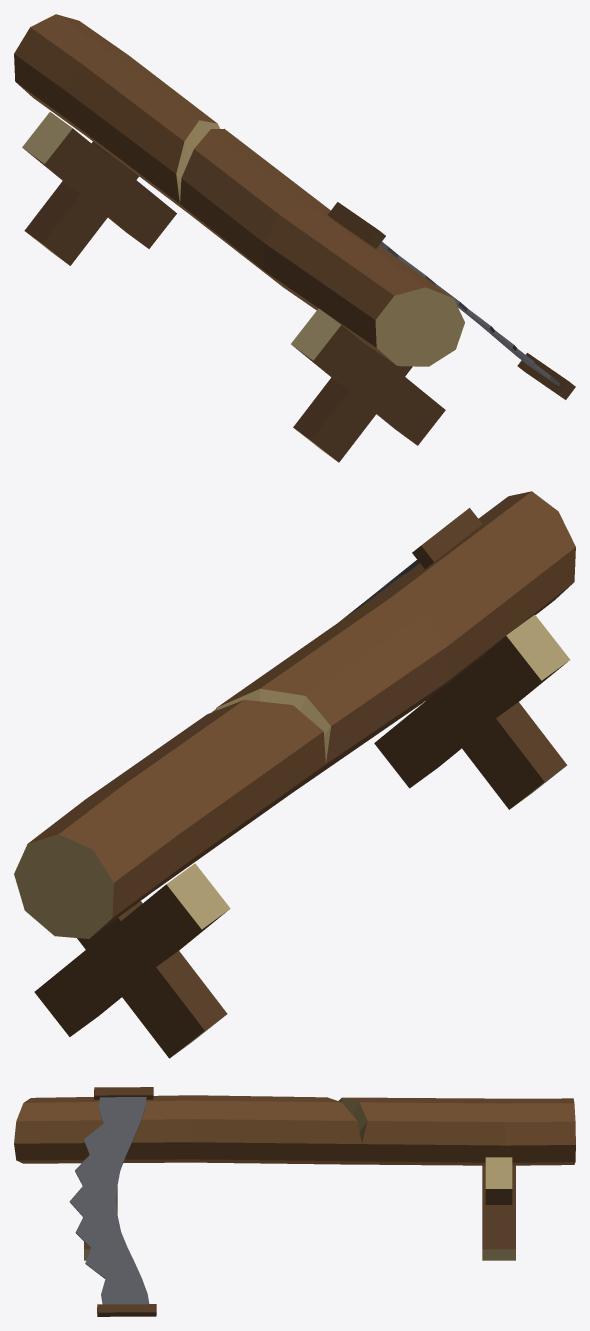
The model's file is sawmillsaw.glb.
The picture shows the model from 3 angles, top to bottom: view 1: azimuth 30°, elevation 25°; view 2: azimuth 150°, elevation 25°; view 3: azimuth 270°, elevation 25°; orthographic projection. The views are drawn at different scales.
Parts seen in each view (by area): view 1: Sawmill_saw; view 2: Sawmill_saw; view 3: Sawmill_saw.
Part boxes in pixels (x1=…): Sawmill_saw: x1=14, y1=14, x2=575, y2=462; Sawmill_saw: x1=14, y1=491, x2=575, y2=1058; Sawmill_saw: x1=14, y1=1087, x2=575, y2=1316.
Size of the model in its own units: 0.7052 by 0.5415 by 1.7.
